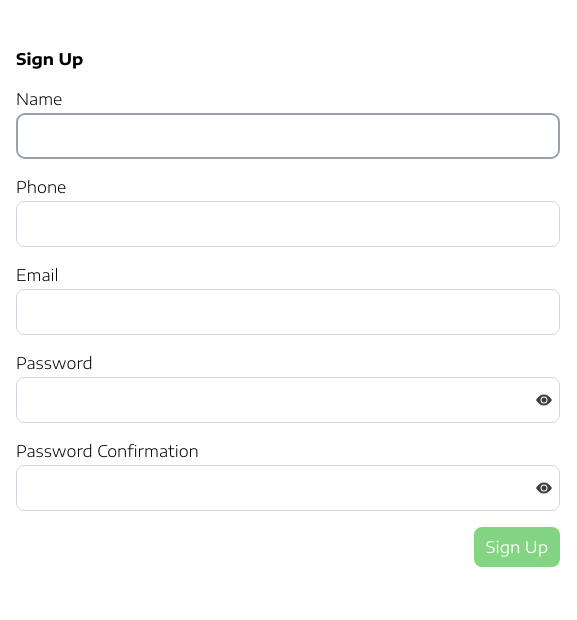
Form submit › displays sign-up request error, then removes it on first change
Type "Superman" into the field labelled "Name" at [288, 136], box [16,113,560,159]
Type "superman@krypton.universe" into the field labelled "Email" at [288, 312], box [16,289,560,335]
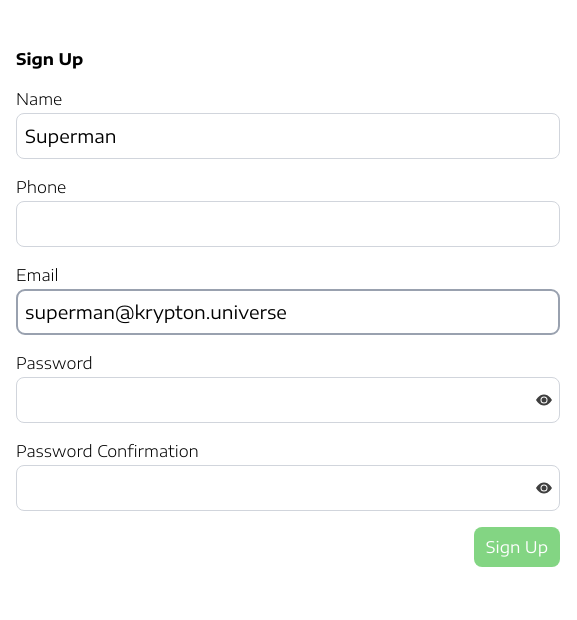
Type "01234567890" into the field labelled "Phone" at [288, 224], box [16,201,560,247]
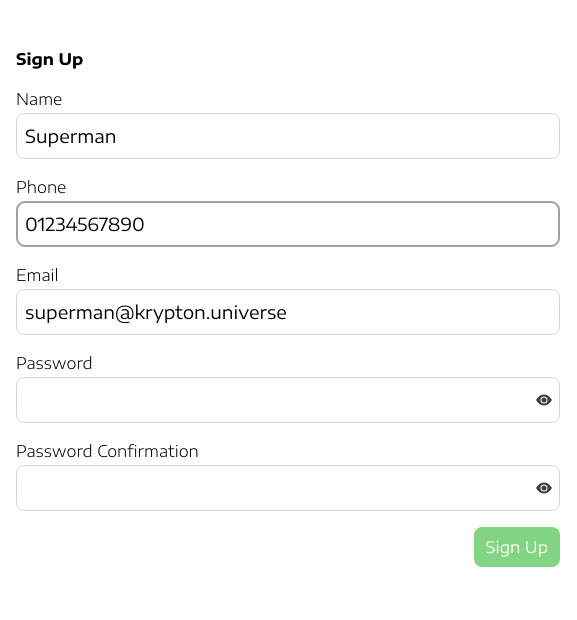
Type "Ss@12312" into the field labelled "Password" at [288, 400], box [16,377,560,423]
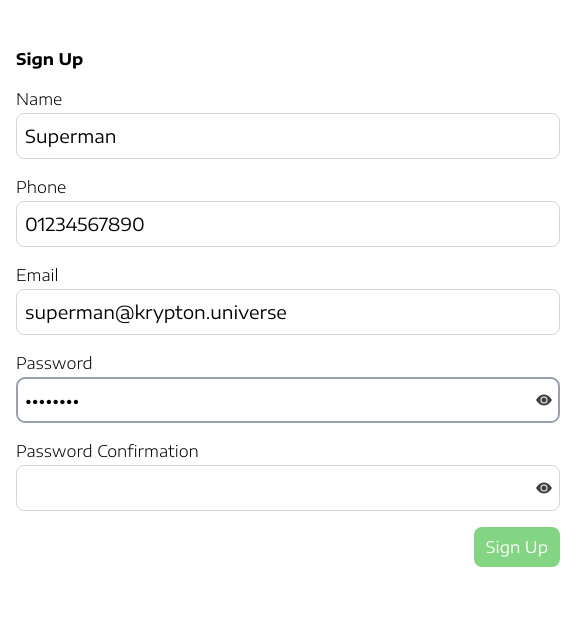
Type "Ss@12312" into the field labelled "Password Confirmation" at [288, 488], box [16,465,560,511]
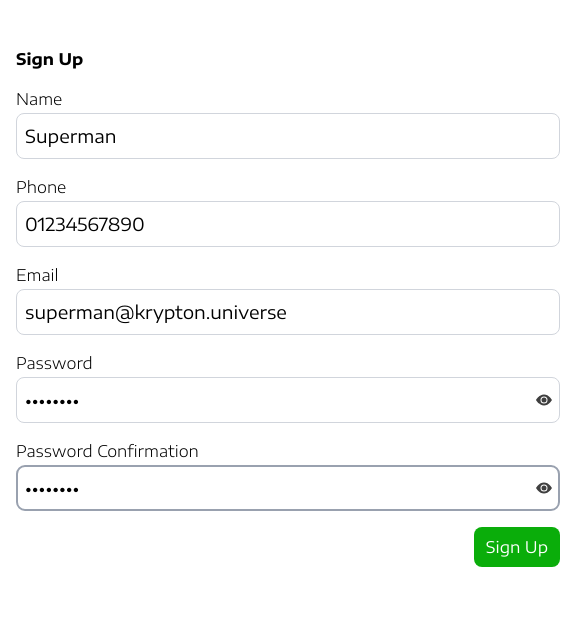
Click the button "Sign Up" at [517, 547], box [474,527,560,567]
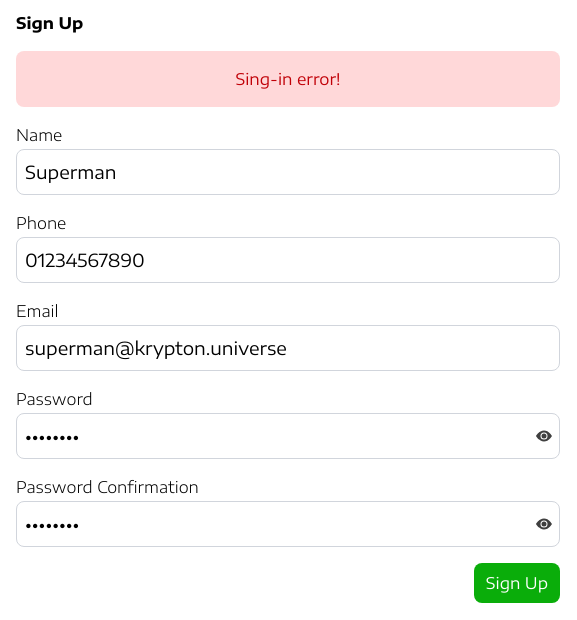
Check: the text "Sing-in error!" is shown, box [16,51,560,107]
Type "1" into the field labelled "Password" at [288, 436], box [16,413,560,459]
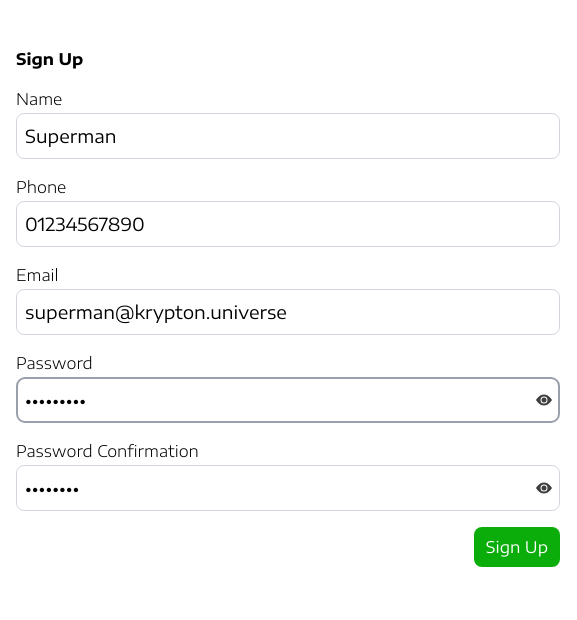
Check: the text "Sing-in error!" is gone
